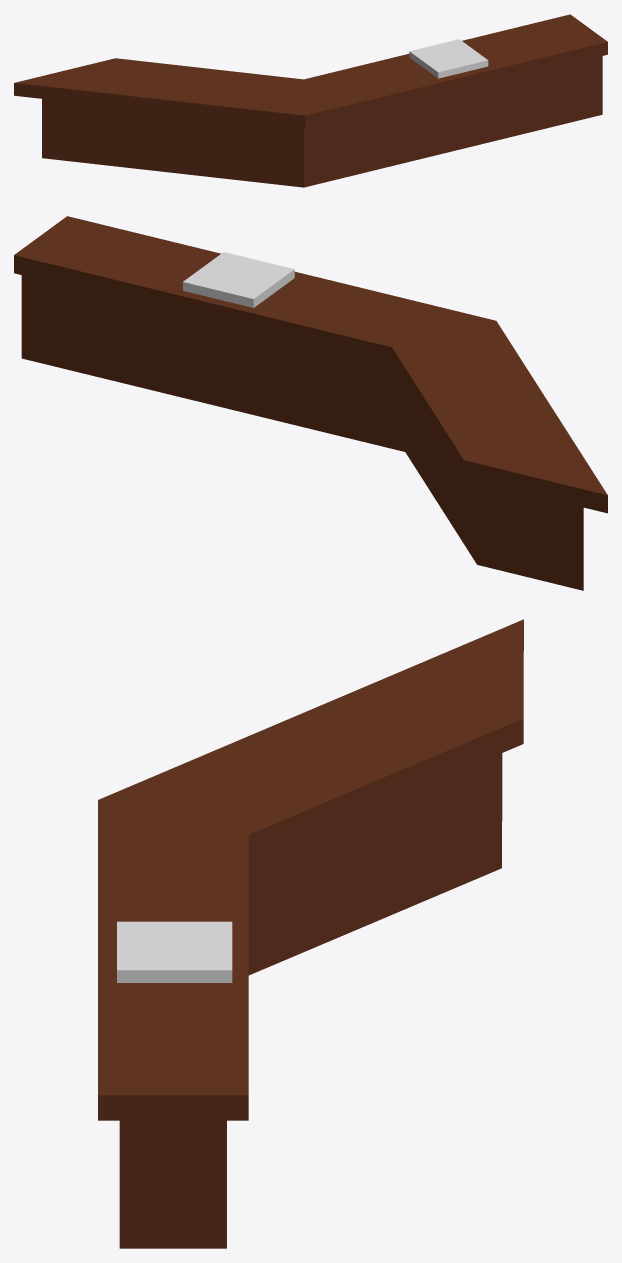
Rendered from Counter.fbx.
The picture shows the model from 3 angles, top to bottom: view 1: azimuth 30°, elevation 25°; view 2: azimuth 150°, elevation 25°; view 3: azimuth 270°, elevation 25°; orthographic projection. The views are drawn at different scales.
Parts seen in each view (by area): view 1: Counter, Cube; view 2: Counter, Cube; view 3: Counter, Cube.
Boxes of the visible parts, x1,y1,x2,y2 form: Counter: [14, 14, 607, 187]; Cube: [409, 39, 488, 78]; Counter: [14, 216, 607, 590]; Cube: [183, 252, 294, 307]; Counter: [98, 619, 523, 1248]; Cube: [117, 921, 232, 982].
Size of the model in its own units: 559 by 91.08 by 211.
